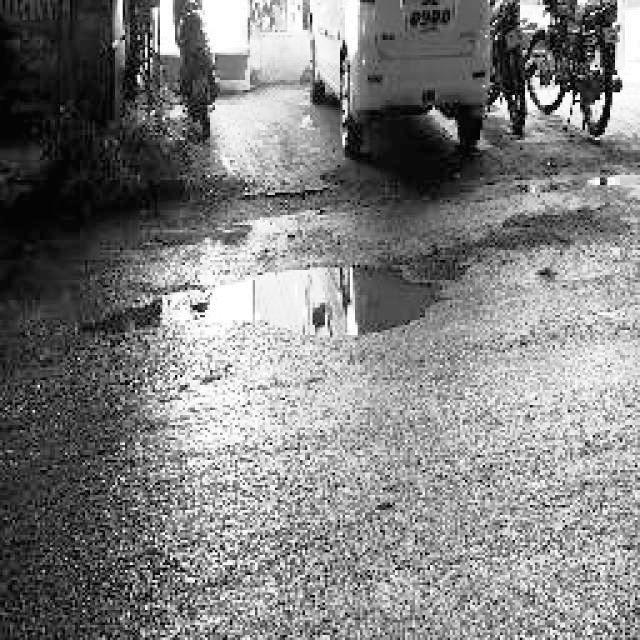Pothole: (68, 203, 626, 350)
